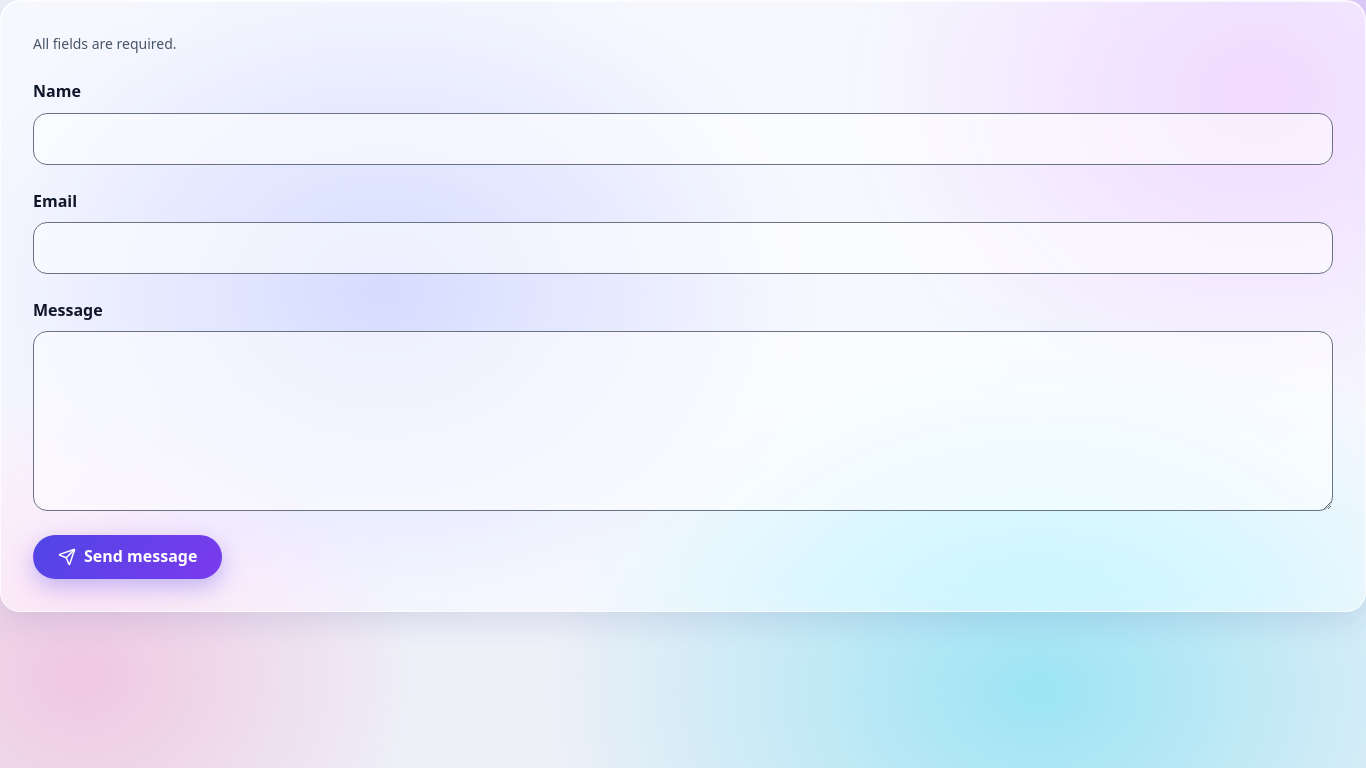
Scenario: ContactForm › shows server-side field errors next to the matching field
The width and height of the screenshot is (1366, 768).
In the field labelled "Name": (683, 139) [33,113,1333,165], type "Priya"
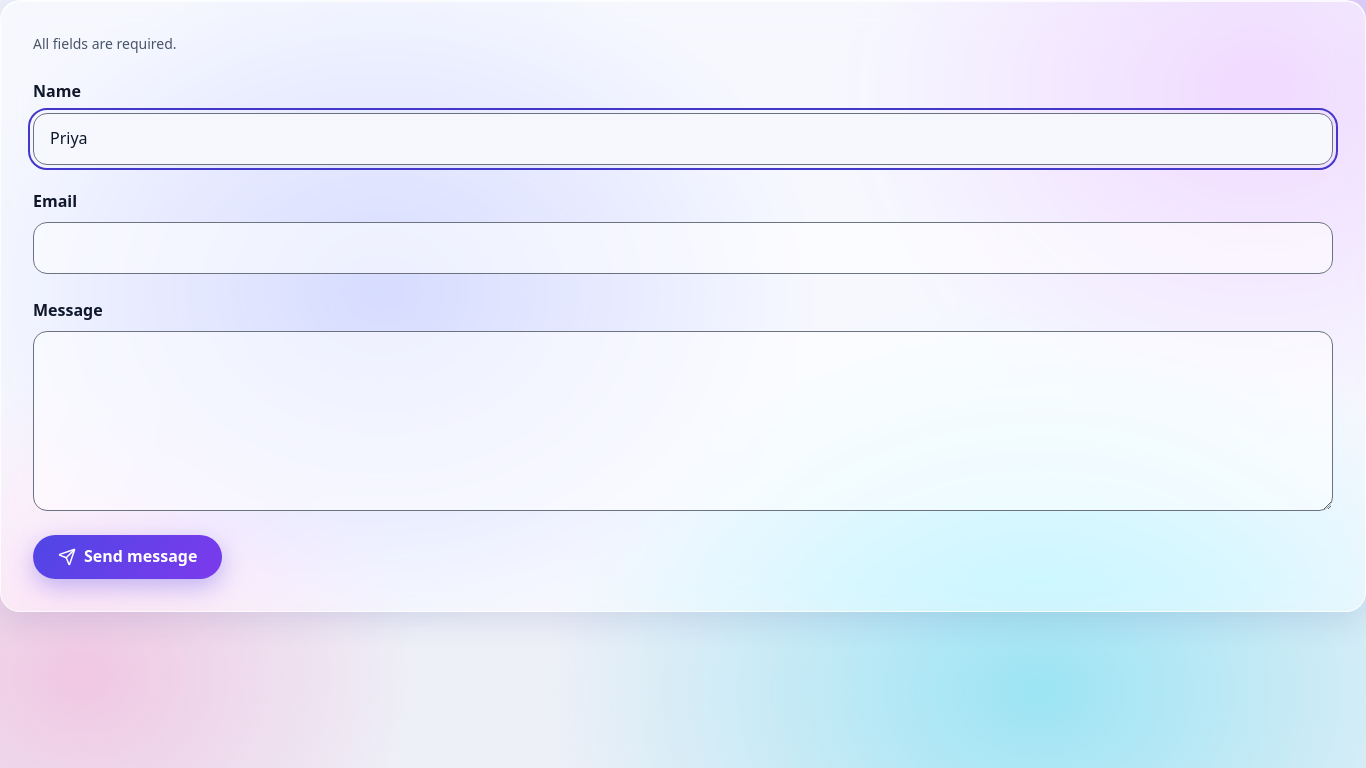
In the field labelled "Email": (683, 248) [33,222,1333,274], type "priya@example.com"
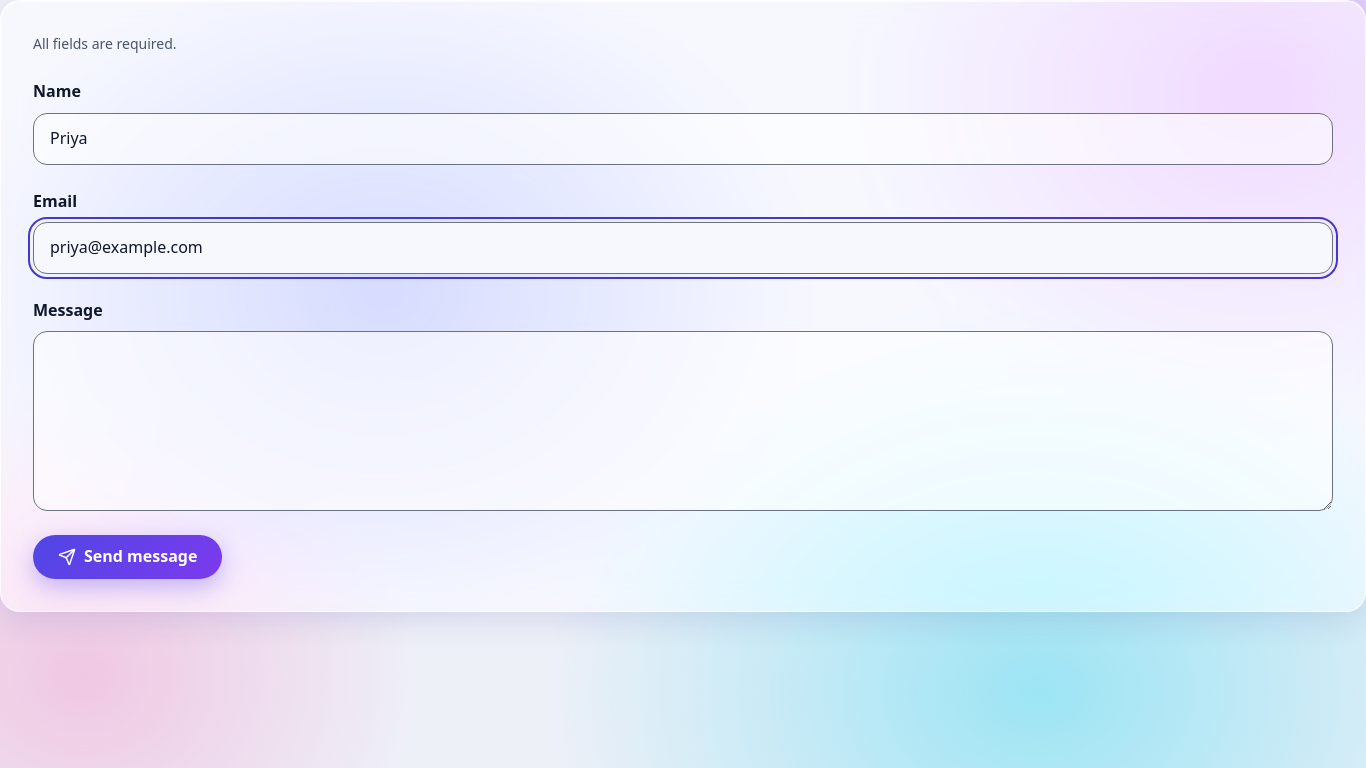
In the text box labelled "Message": (683, 421) [33,331,1333,511], type "Hello"
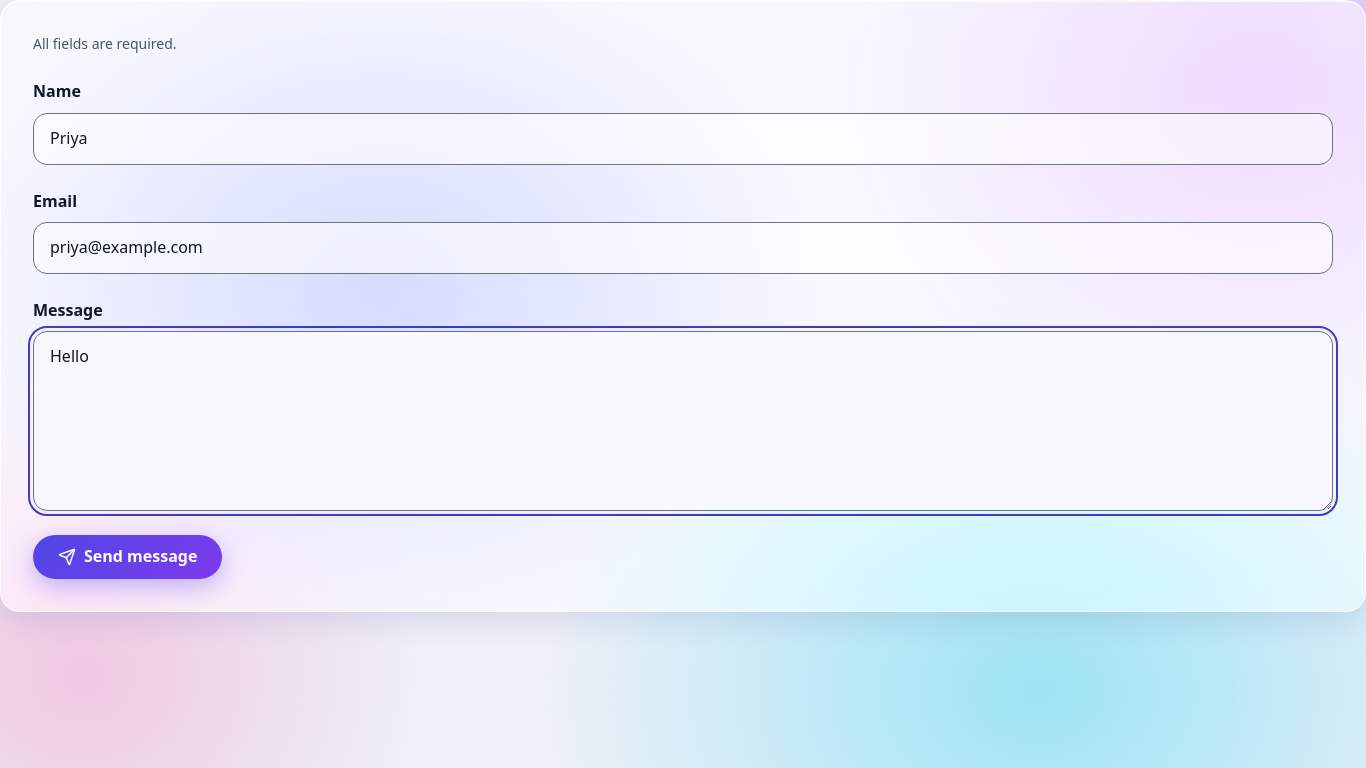
Click the button "Send message": (128, 557) [33,535,222,579]
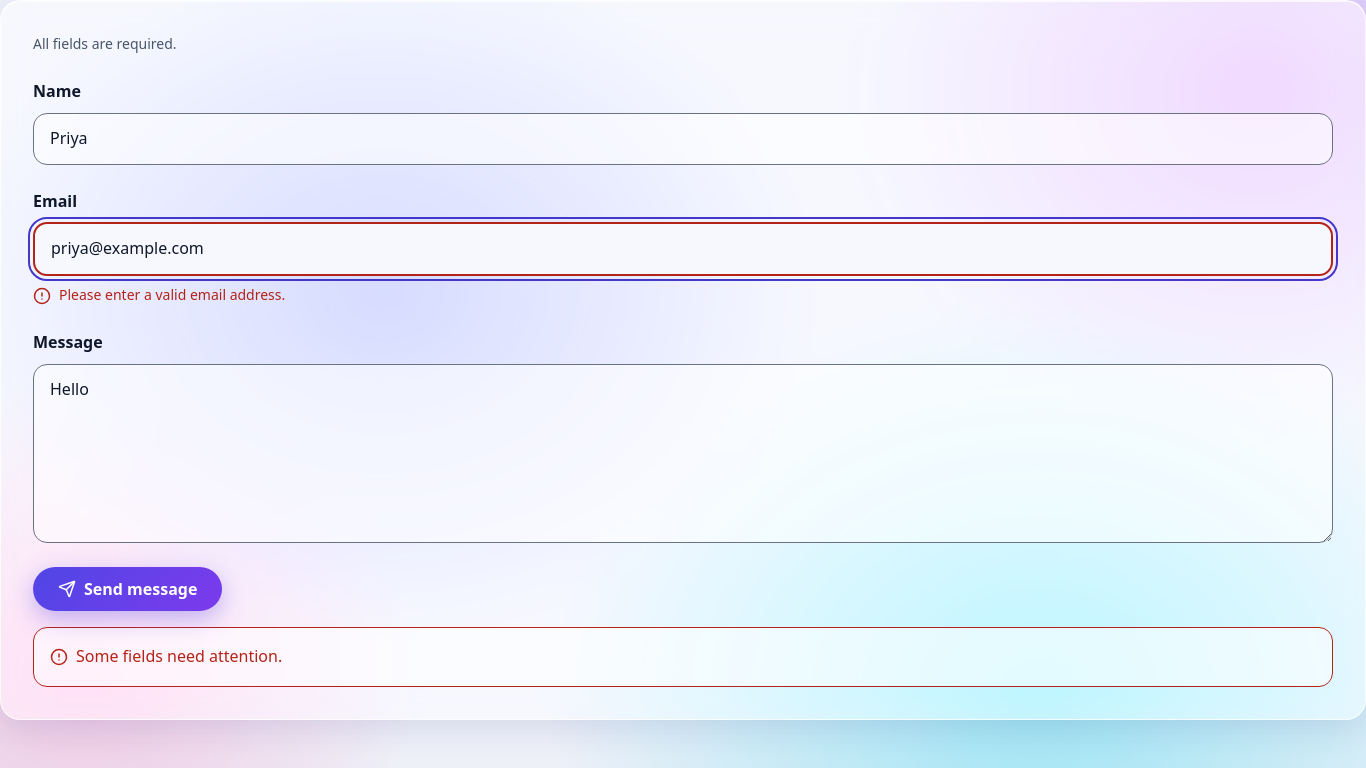
Check: the text "Some fields need attention." is shown, box [76,644,282,670]
